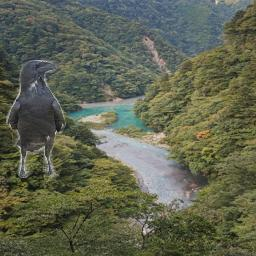Crow: (6, 60, 66, 178)
